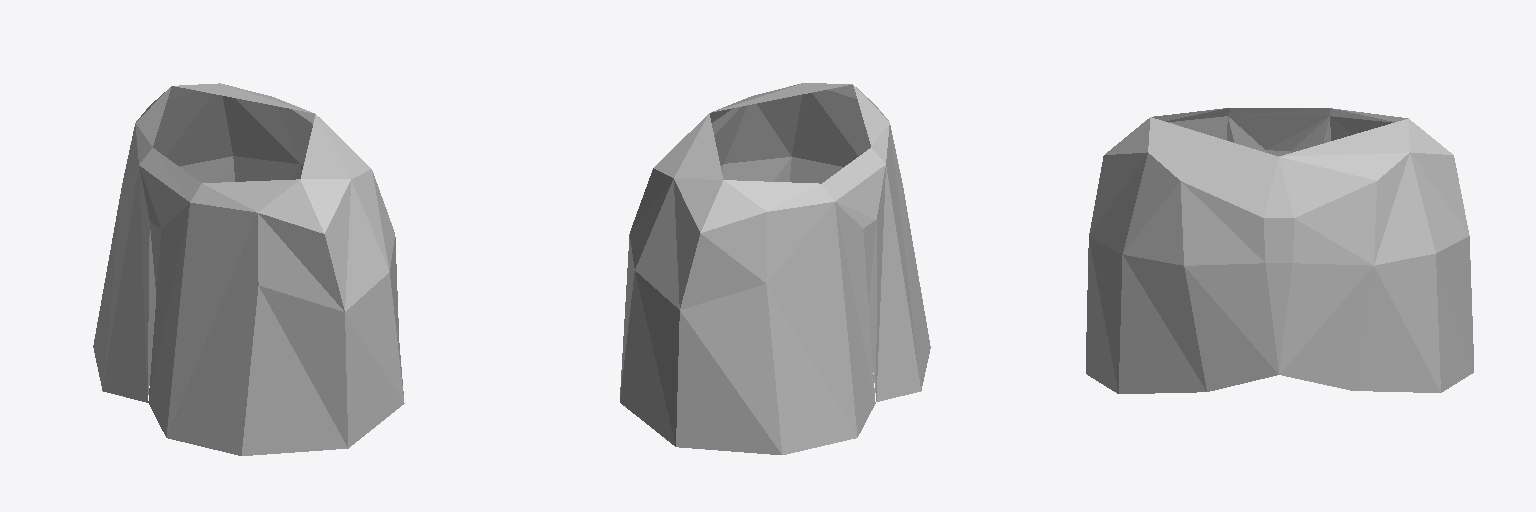
Rendered from Cuerpo2.obj.
3 views of the same model, side by side, from view 1: azimuth 30°, elevation 25°; view 2: azimuth 150°, elevation 25°; view 3: azimuth 270°, elevation 25° (orthographic).
Visible parts, largest first — view 1: polySurface18 polySurface15 polySurface13 polySurface10 polySurf; view 2: polySurface18 polySurface15 polySurface13 polySurface10 polySurf; view 3: polySurface18 polySurface15 polySurface13 polySurface10 polySurf.
Part boxes in pixels (bbox=[...]): polySurface18 polySurface15 polySurface13 polySurface10 polySurf: bbox=[93, 83, 404, 455]; polySurface18 polySurface15 polySurface13 polySurface10 polySurf: bbox=[620, 83, 930, 454]; polySurface18 polySurface15 polySurface13 polySurface10 polySurf: bbox=[1086, 108, 1473, 393].
Size of the model in its own units: 0.363 by 0.3684 by 0.5031.